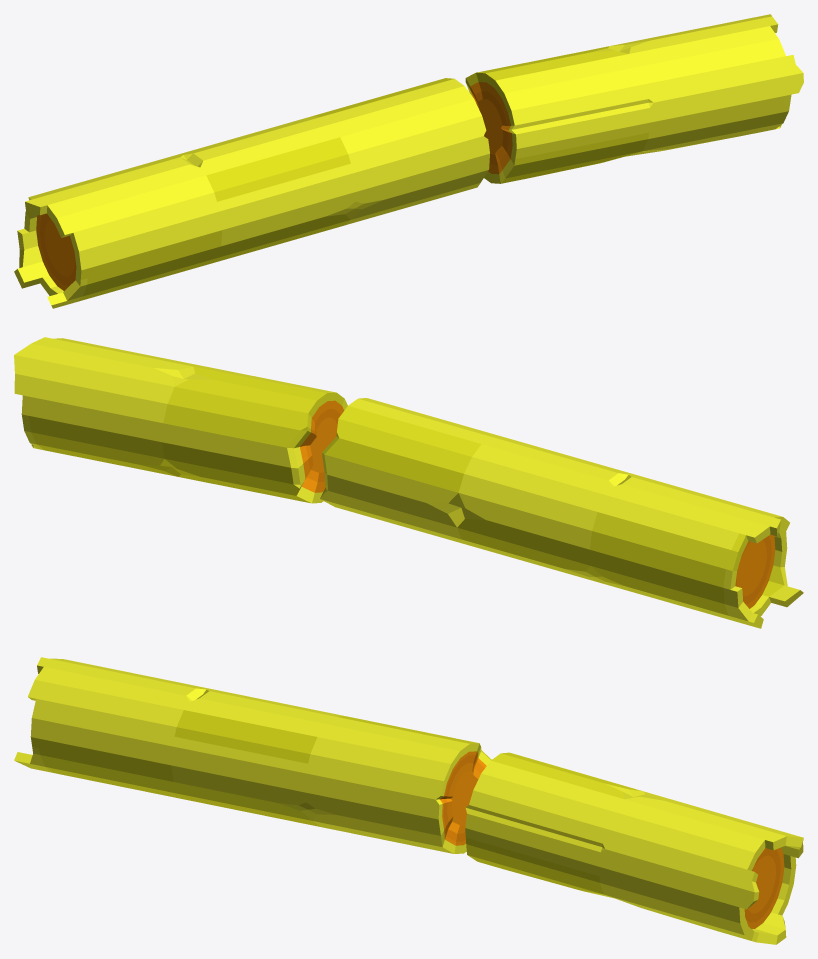
Rendered from Broken log_23.fbx.
3 renders of one model, top to bottom at view 1: azimuth 30°, elevation 25°; view 2: azimuth 150°, elevation 25°; view 3: azimuth 330°, elevation 25°, orthographic.
Parts seen in each view (by area): view 1: Circle.302, Circle.305; view 2: Circle.302, Circle.305; view 3: Circle.302, Circle.305.
Boxes of the visible parts, x1,y1,x2,y2 form: Circle.302: (14, 78, 489, 308); Circle.305: (465, 14, 803, 183); Circle.302: (320, 398, 803, 628); Circle.305: (14, 337, 347, 503); Circle.302: (14, 657, 491, 853); Circle.305: (465, 752, 803, 944).
Bounding box in the file's own units: 180 × 27.07 × 23.56.
